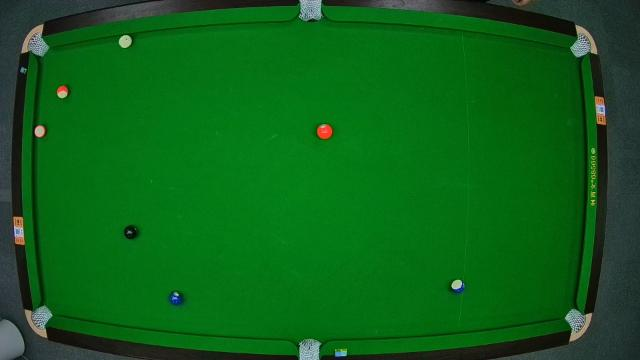bag1: (27, 35, 49, 56)
bag2: (300, 0, 322, 22)
bag3: (574, 39, 596, 58)
bag4: (32, 308, 52, 330)
bag5: (298, 340, 322, 360)
bag6: (567, 310, 585, 334)
ball0: (120, 34, 132, 50)
ball10: (451, 280, 465, 294)
ball12: (34, 124, 48, 138)
ball13: (56, 86, 70, 98)
ball2: (168, 290, 184, 306)
ball5: (317, 124, 333, 140)
ball8: (125, 224, 139, 240)
